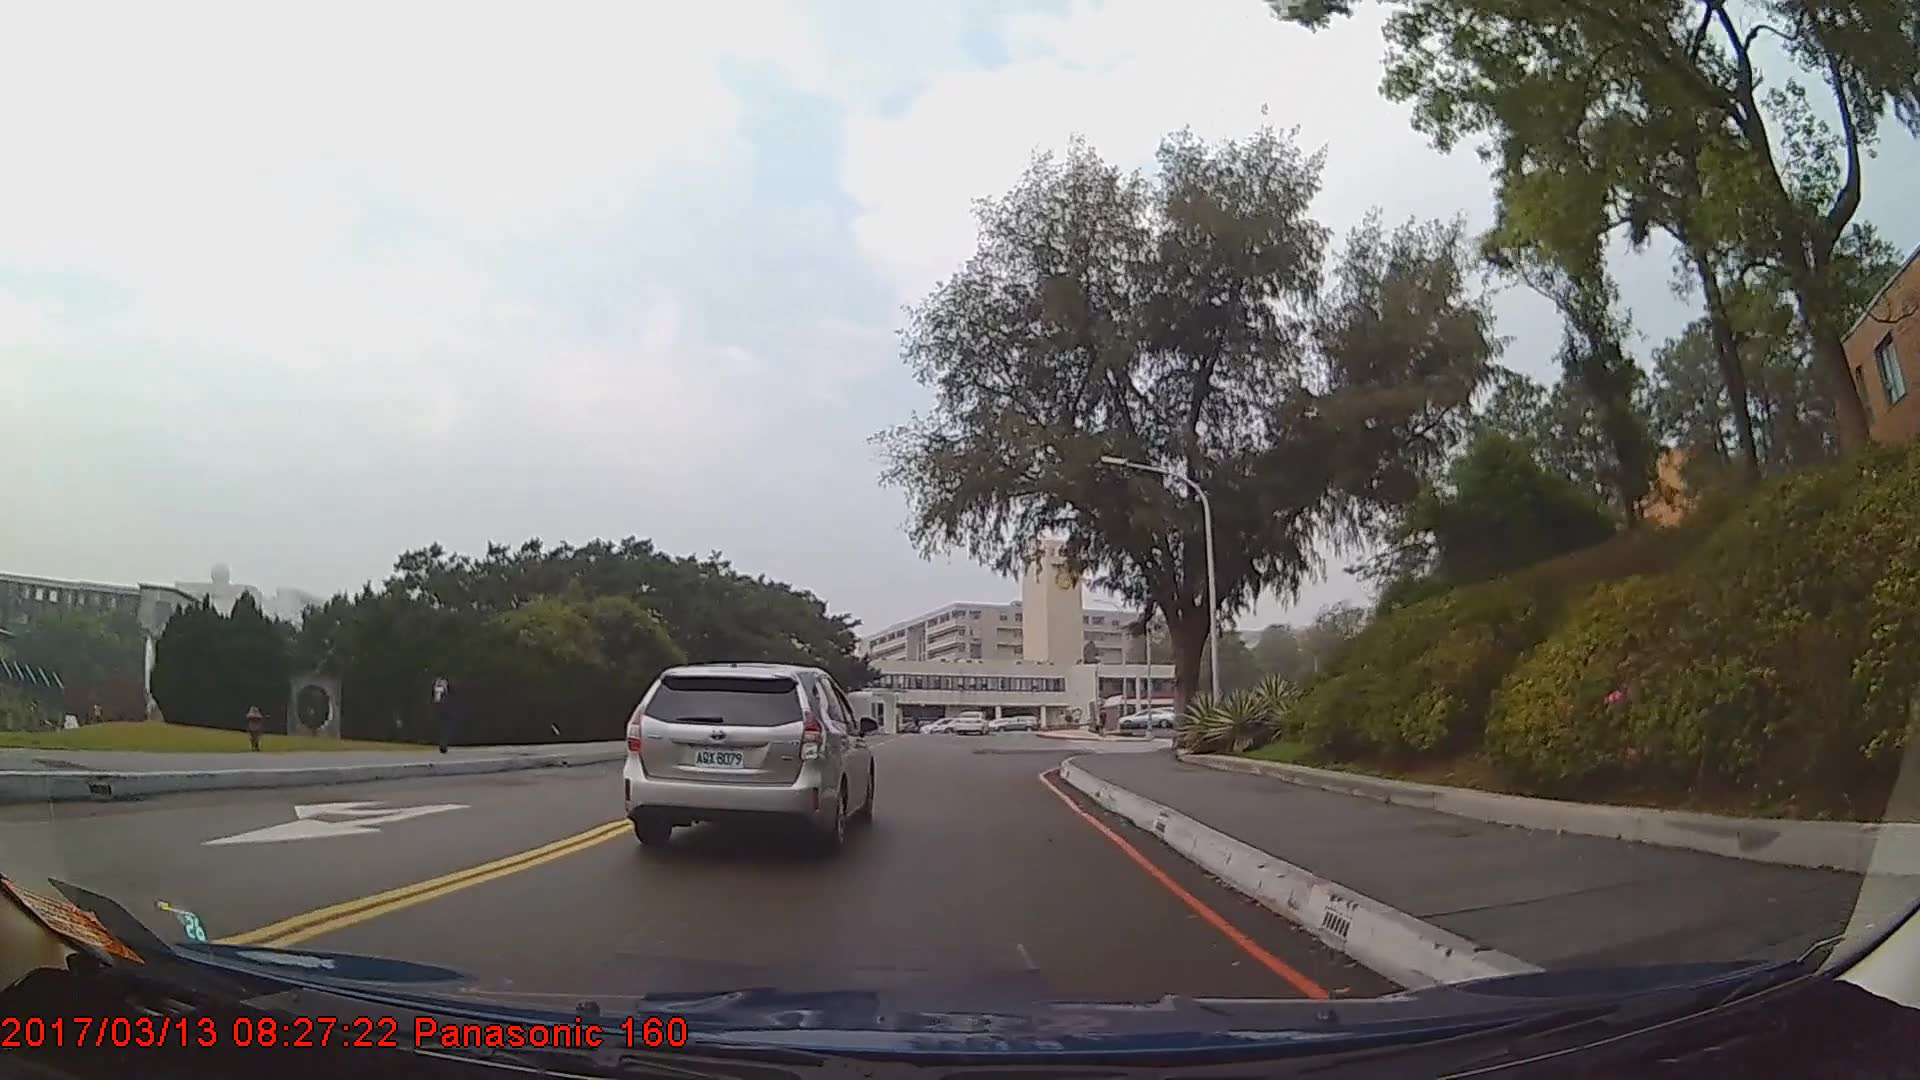pedestrian: (419, 662, 463, 754)
vehicle: (619, 658, 874, 849), (1117, 707, 1177, 729), (952, 707, 990, 734)
